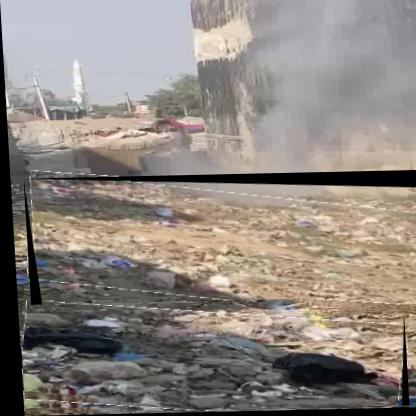Garbage: (22, 172, 416, 307), (16, 303, 406, 416)
